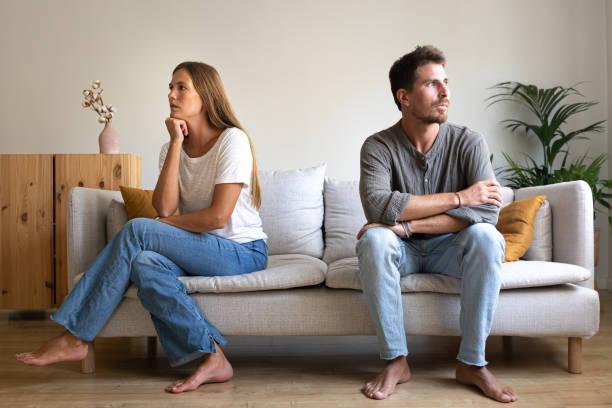long sleeve shirt: (358, 120, 502, 241)
short sleeve shirt: (158, 127, 269, 247)
trousers: (48, 216, 270, 369), (356, 225, 508, 368)
